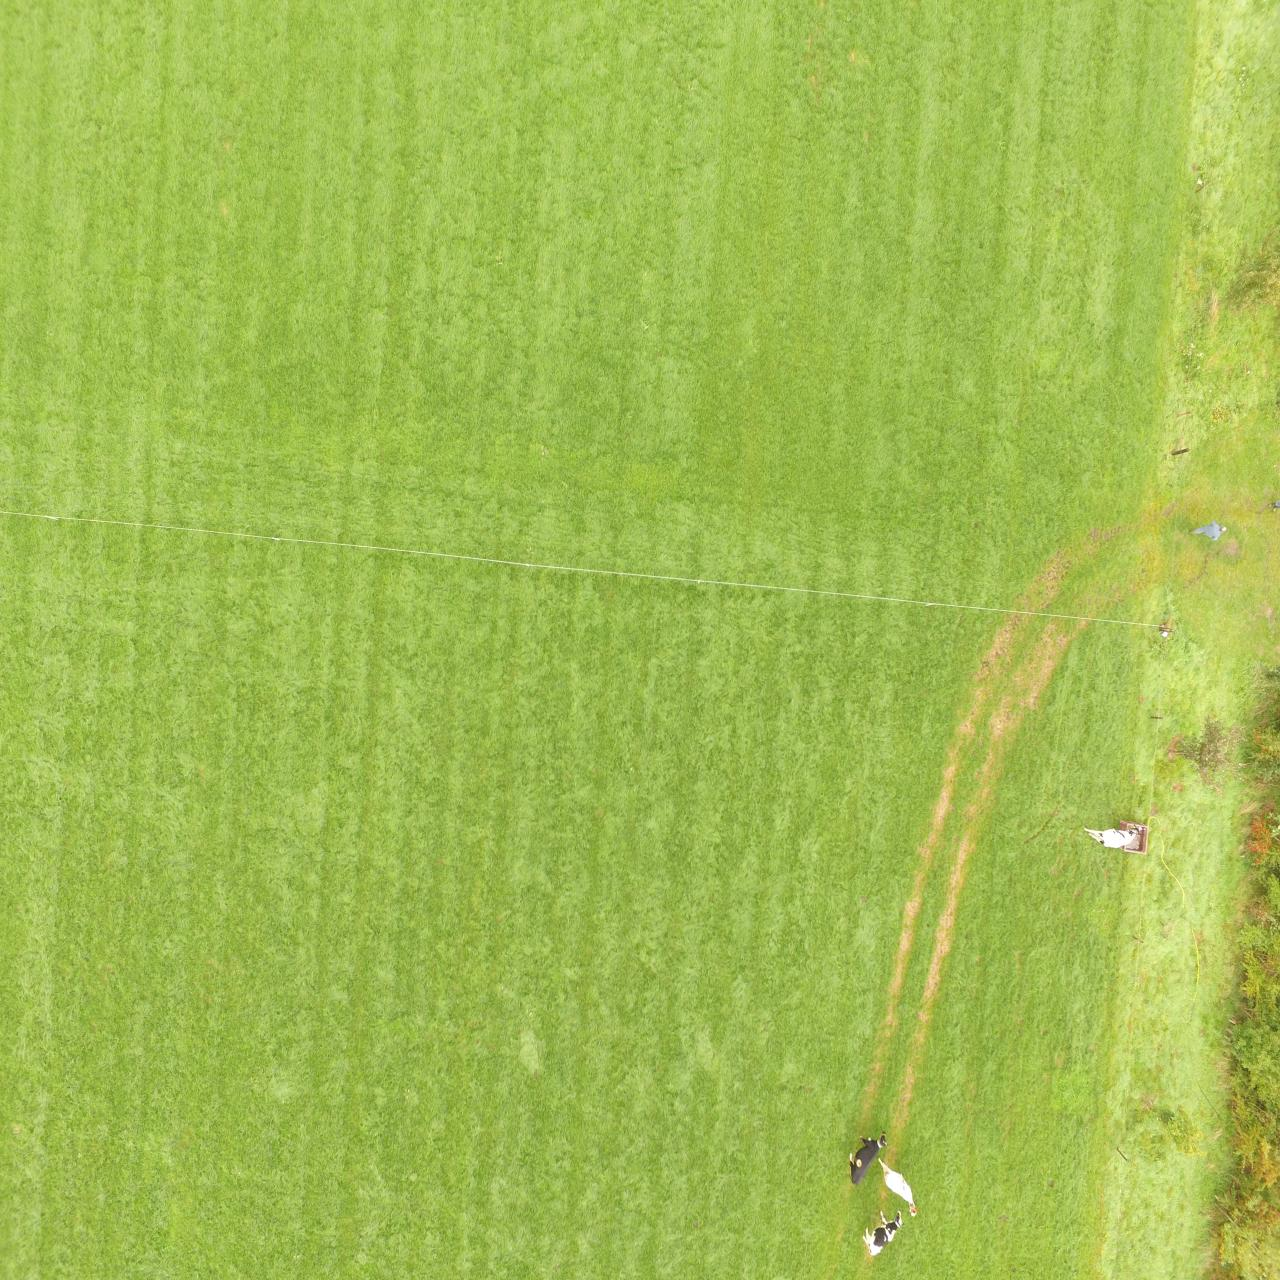cow: (874, 1157, 919, 1217), (847, 1130, 888, 1185), (863, 1210, 903, 1255), (1083, 822, 1141, 849)
